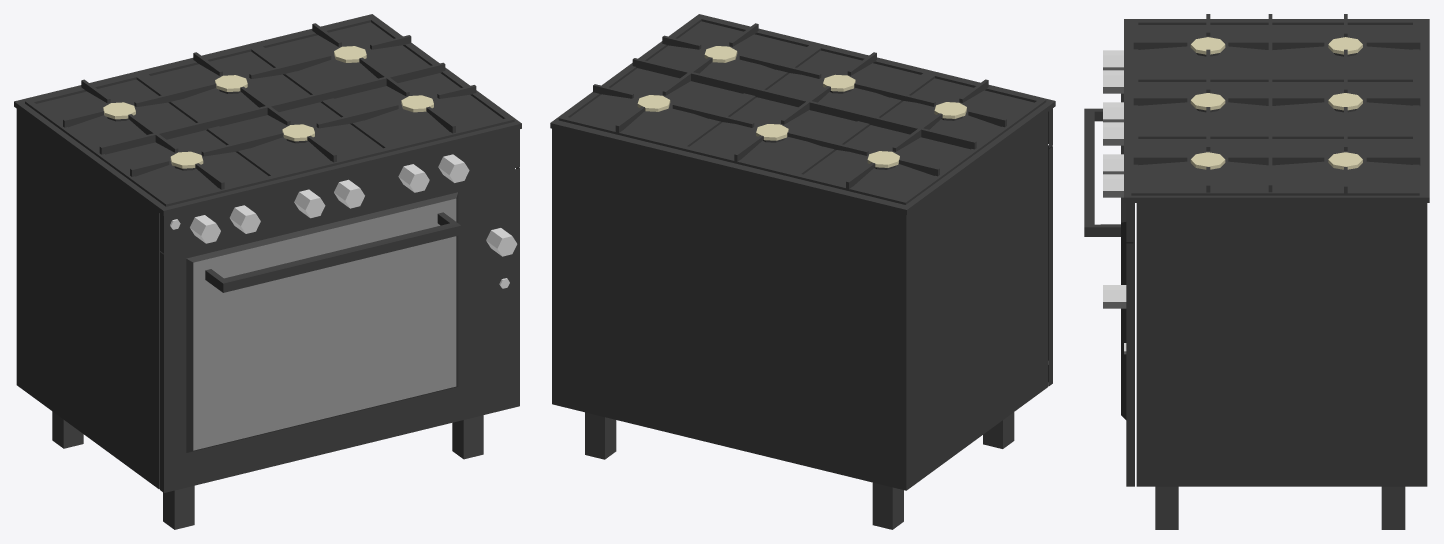
3 renders of one model, left to right at view 1: azimuth 30°, elevation 25°; view 2: azimuth 150°, elevation 25°; view 3: azimuth 270°, elevation 25°, orthographic. The views are drawn at different scales.
Parts seen in each view (by area): view 1: kitchen_item_030; view 2: kitchen_item_030; view 3: kitchen_item_030.
Part boxes in pixels (x1,y1,x2,y2): kitchen_item_030: [14, 14, 521, 529]; kitchen_item_030: [550, 14, 1055, 529]; kitchen_item_030: [1084, 14, 1429, 529].
Bounding box in the file's own units: 0.9187 × 0.847 × 0.7505.
